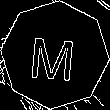M_N: (29, 28, 81, 82)
